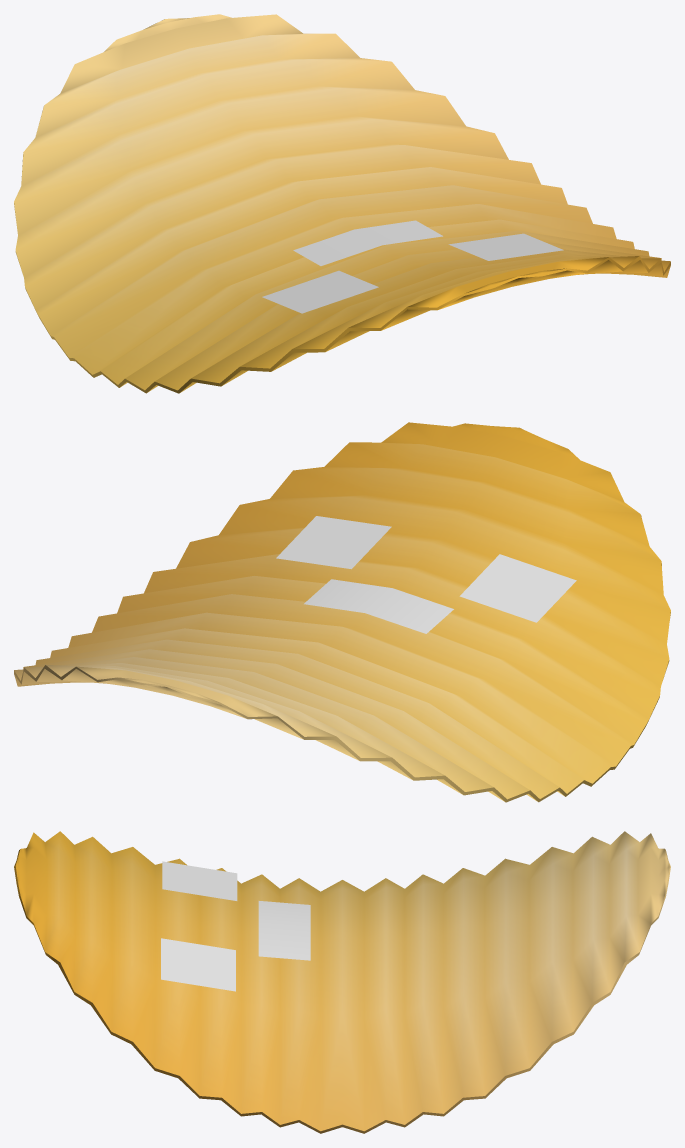
File: chips_slice_smile.fbx
3 views of the same model, one above another, from view 1: azimuth 30°, elevation 25°; view 2: azimuth 150°, elevation 25°; view 3: azimuth 270°, elevation 25° (orthographic). The views are drawn at different scales.
Visible parts, largest first — view 1: chips_slice_smile; view 2: chips_slice_smile; view 3: chips_slice_smile.
Boxes of the visible parts, x1,y1,x2,y2 form: chips_slice_smile: (14,14,670,393); chips_slice_smile: (14,422,670,802); chips_slice_smile: (14,831,670,1133).
Bounding box in the file's own units: 19.2 × 5.43 × 21.82.
Materials: 2 (1 with a texture image).
